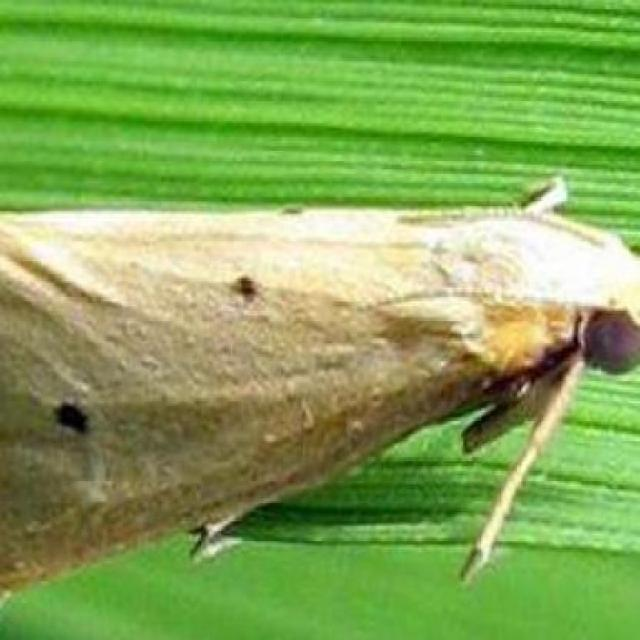stem-borer: (0, 190, 640, 598)
